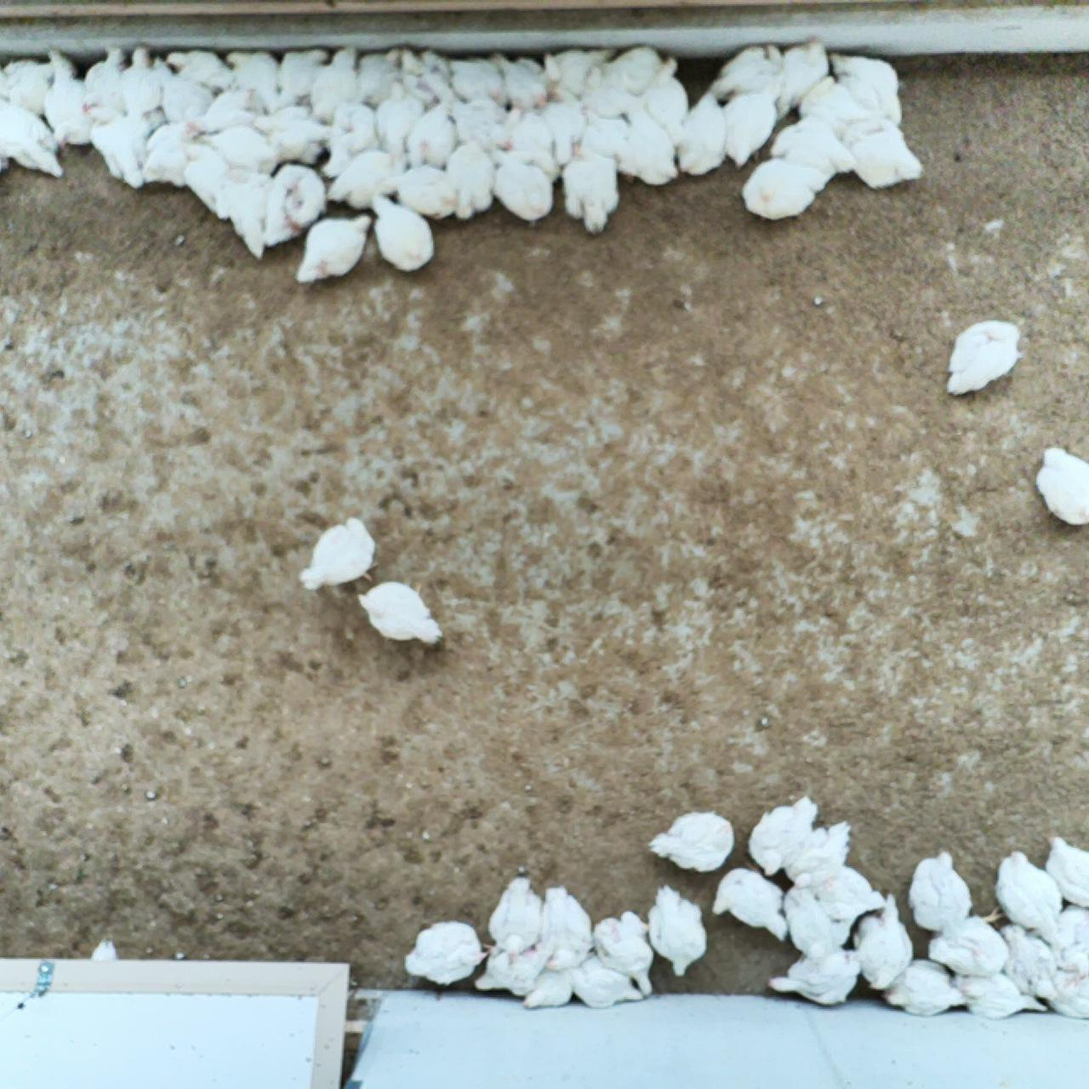chicken: (909, 849, 1005, 933), (83, 100, 159, 190), (40, 45, 105, 148), (260, 162, 336, 245), (838, 116, 922, 190), (713, 868, 793, 945), (301, 516, 378, 595), (876, 957, 969, 1021), (924, 911, 1012, 978), (646, 885, 709, 978), (989, 847, 1062, 927), (992, 922, 1059, 1009), (852, 898, 915, 990), (946, 319, 1021, 396), (371, 190, 437, 277), (614, 107, 683, 189), (748, 797, 820, 875), (532, 886, 598, 971), (0, 93, 66, 178), (325, 95, 394, 176), (298, 212, 374, 285), (646, 809, 735, 871), (562, 949, 649, 1012), (594, 912, 657, 999), (781, 882, 854, 956), (539, 46, 631, 104), (834, 52, 904, 128), (794, 864, 888, 920), (739, 161, 828, 220), (248, 103, 337, 162), (305, 46, 372, 123), (774, 120, 858, 181), (799, 79, 879, 143), (564, 147, 622, 235), (678, 85, 732, 179), (357, 586, 444, 644), (138, 125, 212, 193), (403, 98, 468, 175), (222, 163, 272, 262), (403, 919, 480, 983), (443, 90, 521, 153), (327, 150, 405, 213), (158, 56, 226, 127), (952, 973, 1049, 1022), (769, 954, 856, 1007), (196, 123, 283, 176), (531, 88, 591, 164), (494, 149, 554, 225), (398, 163, 466, 230), (787, 823, 850, 895), (374, 83, 433, 159), (572, 45, 634, 117), (773, 38, 832, 113), (1030, 943, 1089, 1017), (116, 44, 171, 123), (598, 45, 670, 105), (723, 91, 782, 163), (446, 140, 501, 217), (1038, 444, 1089, 527), (272, 45, 338, 109), (709, 44, 787, 98), (352, 50, 419, 112), (216, 46, 287, 103), (509, 103, 561, 180), (401, 49, 473, 104), (440, 50, 515, 102), (78, 45, 137, 109), (167, 49, 245, 97), (646, 57, 692, 137), (489, 874, 540, 945), (1043, 834, 1089, 912), (190, 85, 273, 128), (493, 50, 555, 107), (475, 948, 547, 994), (0, 56, 58, 112), (571, 105, 631, 159), (1045, 906, 1089, 976), (522, 959, 573, 1009), (89, 939, 121, 961)
